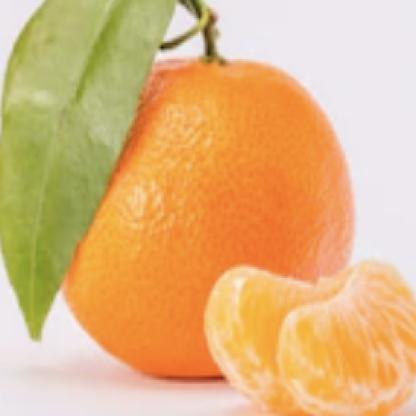fresh: (37, 58, 359, 385)
